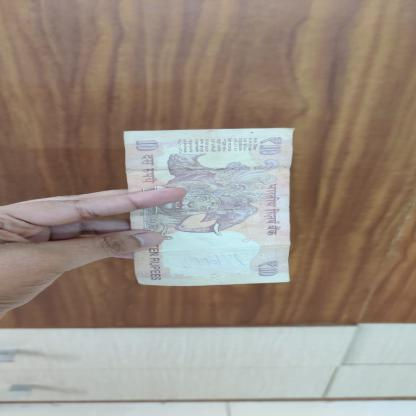Old10Back: (122, 128, 295, 286)
